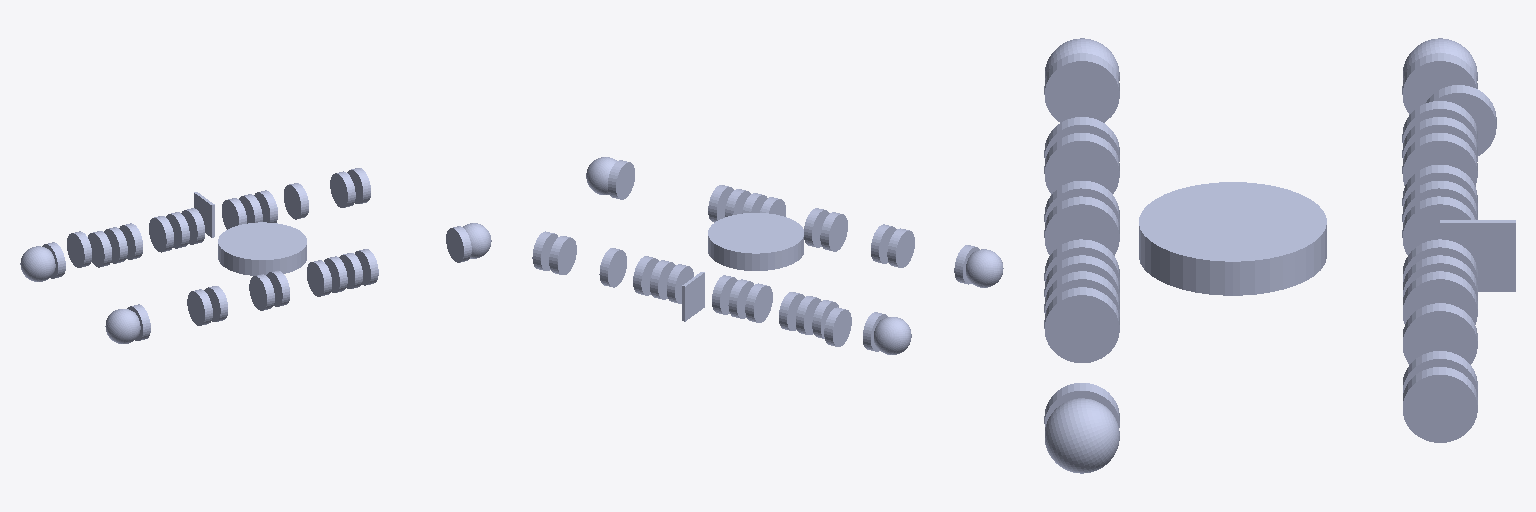
--- Facts derived from the render (not from the file) ---
3 views of the same robot in one strip: view 1: azimuth 30°, elevation 25°; view 2: azimuth 150°, elevation 25°; view 3: azimuth 270°, elevation 25° (orthographic).
Model try66 with 52 links and 51 joints (46 revolute, 5 fixed), rooted at base_link, posed joints at zero except 1 at the middle of their limits (joint01 = -1.57).
Links seen in each view (by area): view 1: sec05, sec50, sec20, sec30, sec26, sec22, sec38, sec11, sec48, sec35, sec43, sec47 (+12 smaller); view 2: sec05, sec30, sec20, sec50, base02, sec26, sec38, sec43, sec22, sec48, sec35, sec31 (+11 smaller); view 3: sec05, sec20, sec30, sec14, sec39, base02, sec50, sec25, sec35, sec21, sec45, sec33 (+14 smaller).
Link boxes in pixels (left/top/right/bottom): sec05: left=218, top=222, right=306, bottom=275; sec50: left=20, top=242, right=65, bottom=281; sec20: left=446, top=223, right=491, bottom=262; sec30: left=105, top=304, right=150, bottom=343; sec26: left=187, top=289, right=212, bottom=325; sec22: left=249, top=274, right=274, bottom=310; sec38: left=330, top=171, right=355, bottom=207; sec11: left=307, top=260, right=331, bottom=296; sec48: left=67, top=231, right=91, bottom=267; sec35: left=284, top=183, right=308, bottom=219; sec43: left=149, top=216, right=173, bottom=252; sec47: left=88, top=231, right=111, bottom=267; sec05: left=708, top=213, right=803, bottom=270; sec30: left=954, top=245, right=1003, bottom=287; sec20: left=586, top=157, right=634, bottom=199; sec50: left=863, top=312, right=911, bottom=354; base02: left=682, top=272, right=704, bottom=321; sec26: left=887, top=228, right=914, bottom=267; sec38: left=549, top=236, right=576, bottom=274; sec43: left=745, top=283, right=772, bottom=322; sec22: left=820, top=212, right=847, bottom=251; sec48: left=824, top=307, right=851, bottom=346; sec35: left=599, top=248, right=626, bottom=287; sec31: left=667, top=264, right=693, bottom=303; sec05: left=1139, top=182, right=1326, bottom=295; sec20: left=1044, top=383, right=1119, bottom=473; sec30: left=1044, top=38, right=1119, bottom=122; sec14: left=1044, top=287, right=1119, bottom=362; sec39: left=1403, top=367, right=1477, bottom=442; base02: left=1440, top=220, right=1515, bottom=291; sec50: left=1402, top=38, right=1477, bottom=114; sec25: left=1044, top=133, right=1119, bottom=194; sec35: left=1403, top=303, right=1477, bottom=364; sec21: left=1044, top=196, right=1119, bottom=255; sec45: left=1402, top=133, right=1477, bottom=186; sec33: left=1403, top=271, right=1477, bottom=324.
Bounding box of the posed robot: 0.246 × 0.125 × 0.02 m (x, y, z).
Meshes: 52 distinct files referenced, 26 mesh visuals loaded (26 binary STL); not drawn: 26 (reference not matched to a file when rendering).

The robot description file, URDF, robot "try66":
<?xml version="1.0" encoding="utf-8"?>
<!-- This URDF was automatically created by SolidWorks to URDF Exporter! Originally created by Stephen Brawner ([email redacted]) 
     Commit Version: 1.6.0-4-g7f85cfe  Build Version: 1.6.7995.38578
     For more information, please see http://wiki.ros.org/sw_urdf_exporter -->
<robot
  name="try66">
  <link
    name="base_link">
    <inertial>
      <origin
        xyz="1.46367293285543E-18 -0.005 0"
        rpy="0 0 0" />
      <mass
        value="0.0002" />
      <inertia
        ixx="3.33333333333333E-09"
        ixy="8.55931204830403E-27"
        ixz="-2.57922414764921E-26"
        iyy="1.73333333333333E-09"
        iyz="1.44560289664734E-25"
        izz="1.73333333333333E-09" />
    </inertial>
    <visual>
      <origin
        xyz="0 0 0"
        rpy="0 0 0" />
      <geometry>
        <mesh
          filename="package://try66/meshes/base_link.STL" />
      </geometry>
      <material
        name="">
        <color
          rgba="0.792156862745098 0.819607843137255 0.933333333333333 1" />
      </material>
    </visual>
    <collision>
      <origin
        xyz="0 0 0"
        rpy="0 0 0" />
      <geometry>
        <mesh
          filename="package://try66/meshes/base_link.STL" />
      </geometry>
    </collision>
  </link>
  <link
    name="sec01">
    <inertial>
      <origin
        xyz="8.13151629364128E-19 0.0025 0"
        rpy="0 0 0" />
      <mass
        value="0.0015707963267949" />
      <inertia
        ixx="4.25424005173618E-08"
        ixy="4.73496022666977E-40"
        ixz="1.99136488891557E-56"
        iyy="7.85398163397449E-08"
        iyz="7.588784500269E-41"
        izz="4.25424005173618E-08" />
    </inertial>
    <visual>
      <origin
        xyz="0 0 0"
        rpy="0 0 0" />
      <geometry>
        <mesh
          filename="package://try66/meshes/sec01.STL" />
      </geometry>
      <material
        name="">
        <color
          rgba="0.792156862745098 0.819607843137255 0.933333333333333 1" />
      </material>
    </visual>
    <collision>
      <origin
        xyz="0 0 0"
        rpy="0 0 0" />
      <geometry>
        <mesh
          filename="package://try66/meshes/sec01.STL" />
      </geometry>
    </collision>
  </link>
  <joint
    name="joint01"
    type="revolute">
    <origin
      xyz="0 0 0"
      rpy="0 0 0" />
    <parent
      link="base_link" />
    <child
      link="sec01" />
    <axis
      xyz="0 0 0" />
    <limit
      lower="-1.571"
      upper="-1.571"
      effort="100"
      velocity="0" />
  </joint>
  <link
    name="sec02">
    <inertial>
      <origin
        xyz="4.33680868994202E-19 0.0025 0"
        rpy="0 0 0" />
      <mass
        value="0.0015707963267949" />
      <inertia
        ixx="4.25424005173618E-08"
        ixy="5.51453741702018E-25"
        ixz="-1.10290748340404E-24"
        iyy="7.85398163397448E-08"
        iyz="-1.37863435425504E-25"
        izz="4.25424005173618E-08" />
    </inertial>
    <visual>
      <origin
        xyz="0 0 0"
        rpy="0 0 0" />
      <geometry>
        <mesh
          filename="package://try66/meshes/sec02.STL" />
      </geometry>
      <material
        name="">
        <color
          rgba="0.792156862745098 0.819607843137255 0.933333333333333 1" />
      </material>
    </visual>
    <collision>
      <origin
        xyz="0 0 0"
        rpy="0 0 0" />
      <geometry>
        <mesh
          filename="package://try66/meshes/sec02.STL" />
      </geometry>
    </collision>
  </link>
  <joint
    name="joint02"
    type="revolute">
    <origin
      xyz="0 0.01 0"
      rpy="0 0 0" />
    <parent
      link="sec01" />
    <child
      link="sec02" />
    <axis
      xyz="0 0 0" />
    <limit
      lower="-1.571"
      upper="1.571"
      effort="100"
      velocity="0" />
  </joint>
  <link
    name="sec03">
    <inertial>
      <origin
        xyz="3.25260651745651E-19 0.0025 0"
        rpy="0 0 0" />
      <mass
        value="0.0015707963267949" />
      <inertia
        ixx="4.25424005173618E-08"
        ixy="-5.51453741702019E-25"
        ixz="-4.03250548619601E-24"
        iyy="7.85398163397448E-08"
        iyz="2.75726870851009E-25"
        izz="4.25424005173618E-08" />
    </inertial>
    <visual>
      <origin
        xyz="0 0 0"
        rpy="0 0 0" />
      <geometry>
        <mesh
          filename="package://try66/meshes/sec03.STL" />
      </geometry>
      <material
        name="">
        <color
          rgba="0.792156862745098 0.819607843137255 0.933333333333333 1" />
      </material>
    </visual>
    <collision>
      <origin
        xyz="0 0 0"
        rpy="0 0 0" />
      <geometry>
        <mesh
          filename="package://try66/meshes/sec03.STL" />
      </geometry>
    </collision>
  </link>
  <joint
    name="joint03"
    type="revolute">
    <origin
      xyz="0 0.01 0"
      rpy="0 0 0" />
    <parent
      link="sec02" />
    <child
      link="sec03" />
    <axis
      xyz="0 0 0" />
    <limit
      lower="-1.571"
      upper="1.571"
      effort="100"
      velocity="0" />
  </joint>
  <link
    name="sec04">
    <inertial>
      <origin
        xyz="-2.71050543121376E-19 0.0025 0"
        rpy="0 0 0" />
      <mass
        value="0.0015707963267949" />
      <inertia
        ixx="4.25424005173618E-08"
        ixy="5.5145374170202E-25"
        ixz="-5.51453741702019E-24"
        iyy="7.85398163397449E-08"
        iyz="-1.15493625579607E-39"
        izz="4.25424005173618E-08" />
    </inertial>
    <visual>
      <origin
        xyz="0 0 0"
        rpy="0 0 0" />
      <geometry>
        <mesh
          filename="package://try66/meshes/sec04.STL" />
      </geometry>
      <material
        name="">
        <color
          rgba="0.792156862745098 0.819607843137255 0.933333333333333 1" />
      </material>
    </visual>
    <collision>
      <origin
        xyz="0 0 0"
        rpy="0 0 0" />
      <geometry>
        <mesh
          filename="package://try66/meshes/sec04.STL" />
      </geometry>
    </collision>
  </link>
  <joint
    name="joint04"
    type="revolute">
    <origin
      xyz="0 0.01 0"
      rpy="0 0 0" />
    <parent
      link="sec03" />
    <child
      link="sec04" />
    <axis
      xyz="0 0 0" />
    <limit
      lower="-1.571"
      upper="1.571"
      effort="100"
      velocity="0" />
  </joint>
  <link
    name="sec05">
    <inertial>
      <origin
        xyz="-1.62630325872826E-19 0.0025 0"
        rpy="0 0 0" />
      <mass
        value="0.0015707963267949" />
      <inertia
        ixx="4.25424005173618E-08"
        ixy="-2.75726870851008E-25"
        ixz="-1.93008809595706E-24"
        iyy="7.85398163397448E-08"
        iyz="-4.72187784282399E-41"
        izz="4.25424005173618E-08" />
    </inertial>
    <visual>
      <origin
        xyz="0 0 0"
        rpy="0 0 0" />
      <geometry>
        <mesh
          filename="package://try66/meshes/sec05.STL" />
      </geometry>
      <material
        name="">
        <color
          rgba="0.792156862745098 0.819607843137255 0.933333333333333 1" />
      </material>
    </visual>
    <collision>
      <origin
        xyz="0 0 0"
        rpy="0 0 0" />
      <geometry>
        <mesh
          filename="package://try66/meshes/sec05.STL" />
      </geometry>
    </collision>
  </link>
  <joint
    name="joint05"
    type="revolute">
    <origin
      xyz="0 0.01 0"
      rpy="0 0 0" />
    <parent
      link="sec04" />
    <child
      link="sec05" />
    <axis
      xyz="0 0 0" />
    <limit
      lower="-1.571"
      upper="1.571"
      effort="100"
      velocity="0" />
  </joint>
  <link
    name="sec06">
    <inertial>
      <origin
        xyz="-1.95156391047391E-18 0.00250000000000001 -1.73472347597681E-18"
        rpy="0 0 0" />
      <mass
        value="0.0015707963267949" />
      <inertia
        ixx="4.25424005173618E-08"
        ixy="1.37863435425504E-25"
        ixz="-6.37618388842958E-25"
        iyy="7.85398163397448E-08"
        iyz="3.37934548137149E-39"
        izz="4.25424005173618E-08" />
    </inertial>
    <visual>
      <origin
        xyz="0 0 0"
        rpy="0 0 0" />
      <geometry>
        <mesh
          filename="package://try66/meshes/sec06.STL" />
      </geometry>
      <material
        name="">
        <color
          rgba="0.792156862745098 0.819607843137255 0.933333333333333 1" />
      </material>
    </visual>
    <collision>
      <origin
        xyz="0 0 0"
        rpy="0 0 0" />
      <geometry>
        <mesh
          filename="package://try66/meshes/sec06.STL" />
      </geometry>
    </collision>
  </link>
  <joint
    name="joint06"
    type="revolute">
    <origin
      xyz="0 0.01 0"
      rpy="0 0 0" />
    <parent
      link="sec05" />
    <child
      link="sec06" />
    <axis
      xyz="0 0 0" />
    <limit
      lower="-1.571"
      upper="1.571"
      effort="100"
      velocity="0" />
  </joint>
  <link
    name="sec07">
    <inertial>
      <origin
        xyz="-1.84314369322536E-18 0.0025 -1.73472347597681E-18"
        rpy="0 0 0" />
      <mass
        value="0.0015707963267949" />
      <inertia
        ixx="4.25424005173618E-08"
        ixy="-1.88326956163455E-39"
        ixz="2.35098870164457E-38"
        iyy="7.85398163397448E-08"
        iyz="1.88906772285313E-39"
        izz="4.25424005173618E-08" />
    </inertial>
    <visual>
      <origin
        xyz="0 0 0"
        rpy="0 0 0" />
      <geometry>
        <mesh
          filename="package://try66/meshes/sec07.STL" />
      </geometry>
      <material
        name="">
        <color
          rgba="0.792156862745098 0.819607843137255 0.933333333333333 1" />
      </material>
    </visual>
    <collision>
      <origin
        xyz="0 0 0"
        rpy="0 0 0" />
      <geometry>
        <mesh
          filename="package://try66/meshes/sec07.STL" />
      </geometry>
    </collision>
  </link>
  <joint
    name="joint07"
    type="revolute">
    <origin
      xyz="0 0.01 0"
      rpy="0 0 0" />
    <parent
      link="sec06" />
    <child
      link="sec07" />
    <axis
      xyz="0 0 0" />
    <limit
      lower="-1.571"
      upper="1.571"
      effort="100"
      velocity="0" />
  </joint>
  <link
    name="sec08">
    <inertial>
      <origin
        xyz="-1.62630325872826E-18 0.0025 0"
        rpy="0 0 0" />
      <mass
        value="0.0015707963267949" />
      <inertia
        ixx="4.25424005173618E-08"
        ixy="-2.75726870851008E-25"
        ixz="-9.91055745063801E-41"
        iyy="7.85398163397448E-08"
        iyz="1.65082098396703E-40"
        izz="4.25424005173618E-08" />
    </inertial>
    <visual>
      <origin
        xyz="0 0 0"
        rpy="0 0 0" />
      <geometry>
        <mesh
          filename="package://try66/meshes/sec08.STL" />
      </geometry>
      <material
        name="">
        <color
          rgba="0.792156862745098 0.819607843137255 0.933333333333333 1" />
      </material>
    </visual>
    <collision>
      <origin
        xyz="0 0 0"
        rpy="0 0 0" />
      <geometry>
        <mesh
          filename="package://try66/meshes/sec08.STL" />
      </geometry>
    </collision>
  </link>
  <joint
    name="joint08"
    type="revolute">
    <origin
      xyz="0 0.01 0"
      rpy="0 0 0" />
    <parent
      link="sec07" />
    <child
      link="sec08" />
    <axis
      xyz="0 0 0" />
    <limit
      lower="-1.571"
      upper="1.571"
      effort="100"
      velocity="0" />
  </joint>
  <link
    name="sec09">
    <inertial>
      <origin
        xyz="-1.68051336735253E-18 0.0025 0"
        rpy="0 0 0" />
      <mass
        value="0.0015707963267949" />
      <inertia
        ixx="4.25424005173618E-08"
        ixy="5.74790090871454E-41"
        ixz="4.41162993361615E-24"
        iyy="7.85398163397449E-08"
        iyz="-3.31855213692167E-41"
        izz="4.25424005173619E-08" />
    </inertial>
    <visual>
      <origin
        xyz="0 0 0"
        rpy="0 0 0" />
      <geometry>
        <mesh
          filename="package://try66/meshes/sec09.STL" />
      </geometry>
      <material
        name="">
        <color
          rgba="0.792156862745098 0.819607843137255 0.933333333333333 1" />
      </material>
    </visual>
    <collision>
      <origin
        xyz="0 0 0"
        rpy="0 0 0" />
      <geometry>
        <mesh
          filename="package://try66/meshes/sec09.STL" />
      </geometry>
    </collision>
  </link>
  <joint
    name="joint09"
    type="revolute">
    <origin
      xyz="0 0.01 0"
      rpy="0 0 0" />
    <parent
      link="sec08" />
    <child
      link="sec09" />
    <axis
      xyz="0 0 0" />
    <limit
      lower="-1.571"
      upper="1.571"
      effort="100"
      velocity="0" />
  </joint>
  <link
    name="sec10">
    <inertial>
      <origin
        xyz="-3.36102673470506E-18 0.00250000000000002 0"
        rpy="0 0 0" />
      <mass
        value="0.0015707963267949" />
      <inertia
        ixx="4.25424005173618E-08"
        ixy="1.10290748340404E-24"
        ixz="6.89317177127524E-24"
        iyy="7.85398163397449E-08"
        iyz="5.51453741702019E-25"
        izz="4.25424005173618E-08" />
    </inertial>
    <visual>
      <origin
        xyz="0 0 0"
        rpy="0 0 0" />
      <geometry>
        <mesh
          filename="package://try66/meshes/sec10.STL" />
      </geometry>
      <material
        name="">
        <color
          rgba="0.792156862745098 0.819607843137255 0.933333333333333 1" />
      </material>
    </visual>
    <collision>
      <origin
        xyz="0 0 0"
        rpy="0 0 0" />
      <geometry>
        <mesh
          filename="package://try66/meshes/sec10.STL" />
      </geometry>
    </collision>
  </link>
  <joint
    name="joint10"
    type="revolute">
    <origin
      xyz="0 0.01 0"
      rpy="0 0 0" />
    <parent
      link="sec09" />
    <child
      link="sec10" />
    <axis
      xyz="0 0 0" />
    <limit
      lower="-1.571"
      upper="1.571"
      effort="100"
      velocity="0" />
  </joint>
  <link
    name="base02">
    <inertial>
      <origin
        xyz="-1.30104260698261E-18 0.01 0"
        rpy="0 0 0" />
      <mass
        value="0.0002" />
      <inertia
        ixx="3.33333333333334E-09"
        ixy="-2.84788983421455E-26"
        ixz="-8.84139974836551E-26"
        iyy="1.73333333333334E-09"
        iyz="5.50456501578786E-26"
        izz="1.73333333333334E-09" />
    </inertial>
    <visual>
      <origin
        xyz="0 0 0"
        rpy="0 0 0" />
      <geometry>
        <mesh
          filename="package://try66/meshes/base02.STL" />
      </geometry>
      <material
        name="">
        <color
          rgba="0.792156862745098 0.819607843137255 0.933333333333333 1" />
      </material>
    </visual>
    <collision>
      <origin
        xyz="0 0 0"
        rpy="0 0 0" />
      <geometry>
        <mesh
          filename="package://try66/meshes/base02.STL" />
      </geometry>
    </collision>
  </link>
  <joint
    name="basejoint02"
    type="fixed">
    <origin
      xyz="0 0 0"
      rpy="0 0 0" />
    <parent
      link="sec10" />
    <child
      link="base02" />
    <axis
      xyz="0 0 0" />
  </joint>
  <link
    name="sec31">
    <inertial>
      <origin
        xyz="0.00249999999999999 -0.00499999999999999 0"
        rpy="0 0 0" />
      <mass
        value="0.0015707963267949" />
      <inertia
        ixx="7.85398163397449E-08"
        ixy="-1.61515983115699E-24"
        ixz="1.35423264498193E-23"
        iyy="4.25424005173618E-08"
        iyz="-4.41162993361615E-24"
        izz="4.25424005173618E-08" />
    </inertial>
    <visual>
      <origin
        xyz="0 0 0"
        rpy="0 0 0" />
      <geometry>
        <mesh
          filename="package://try66/meshes/sec31.STL" />
      </geometry>
      <material
        name="">
        <color
          rgba="0.792156862745098 0.819607843137255 0.933333333333333 1" />
      </material>
    </visual>
    <collision>
      <origin
        xyz="0 0 0"
        rpy="0 0 0" />
      <geometry>
        <mesh
          filename="package://try66/meshes/sec31.STL" />
      </geometry>
    </collision>
  </link>
  <joint
    name="joint31"
    type="fixed">
    <origin
      xyz="0.011 0.01 0"
      rpy="0 0 0" />
    <parent
      link="base02" />
    <child
      link="sec31" />
    <axis
      xyz="0 0 0" />
    <limit
      lower="-1.571"
      upper="1.571"
      effort="100"
      velocity="0" />
  </joint>
  <link
    name="sec32">
    <inertial>
      <origin
        xyz="0.00249999999999999 -0.00499999999999998 0"
        rpy="0 0 0" />
      <mass
        value="0.0015707963267949" />
      <inertia
        ixx="7.85398163397449E-08"
        ixy="-1.61515983115699E-24"
        ixz="1.35423264498193E-23"
        iyy="4.25424005173618E-08"
        iyz="-5.70409964073026E-24"
        izz="4.25424005173618E-08" />
    </inertial>
    <visual>
      <origin
        xyz="0 0 0"
        rpy="0 0 0" />
      <geometry>
        <mesh
          filename="package://try66/meshes/sec32.STL" />
      </geometry>
      <material
        name="">
        <color
          rgba="0.792156862745098 0.819607843137255 0.933333333333333 1" />
      </material>
    </visual>
    <collision>
      <origin
        xyz="0 0 0"
        rpy="0 0 0" />
      <geometry>
        <mesh
          filename="package://try66/meshes/sec32.STL" />
      </geometry>
    </collision>
  </link>
  <joint
    name="joint32"
    type="revolute">
    <origin
      xyz="0.01 0 0"
      rpy="0 0 0" />
    <parent
      link="sec31" />
    <child
      link="sec32" />
    <axis
      xyz="0 0 0" />
    <limit
      lower="-1.571"
      upper="1.571"
      effort="100"
      velocity="0" />
  </joint>
  <link
    name="sec33">
    <inertial>
      <origin
        xyz="0.00249999999999999 -0.00499999999999999 -6.93889390390723E-18"
        rpy="0 0 0" />
      <mass
        value="0.0015707963267949" />
      <inertia
        ixx="7.85398163397448E-08"
        ixy="-1.06370608945497E-24"
        ixz="1.38180533206703E-23"
        iyy="4.25424005173618E-08"
        iyz="-5.70409964073025E-24"
        izz="4.25424005173618E-08" />
    </inertial>
    <visual>
      <origin
        xyz="0 0 0"
        rpy="0 0 0" />
      <geometry>
        <mesh
          filename="package://try66/meshes/sec33.STL" />
      </geometry>
      <material
        name="">
        <color
          rgba="0.792156862745098 0.819607843137255 0.933333333333333 1" />
      </material>
    </visual>
    <collision>
      <origin
        xyz="0 0 0"
        rpy="0 0 0" />
      <geometry>
        <mesh
          filename="package://try66/meshes/sec33.STL" />
      </geometry>
    </collision>
  </link>
  <joint
    name="joint33"
    type="revolute">
    <origin
      xyz="0.01 0 0"
      rpy="0 0 0" />
    <parent
      link="sec32" />
    <child
      link="sec33" />
    <axis
      xyz="0 0 0" />
    <limit
      lower="-1.571"
      upper="1.571"
      effort="100"
      velocity="0" />
  </joint>
  <link
    name="sec34">
    <inertial>
      <origin
        xyz="0.00249999999999997 -0.00499999999999999 -6.93889390390723E-18"
        rpy="0 0 0" />
      <mass
        value="0.0015707963267949" />
      <inertia
        ixx="7.85398163397448E-08"
        ixy="-1.06370608945497E-24"
        ixz="1.38180533206703E-23"
        iyy="4.25424005173618E-08"
        iyz="-5.70409964073025E-24"
        izz="4.25424005173618E-08" />
    </inertial>
    <visual>
      <origin
        xyz="0 0 0"
        rpy="0 0 0" />
      <geometry>
        <mesh
          filename="package://try66/meshes/sec34.STL" />
      </geometry>
      <material
        name="">
        <color
          rgba="0.792156862745098 0.819607843137255 0.933333333333333 1" />
      </material>
    </visual>
    <collision>
      <origin
        xyz="0 0 0"
        rpy="0 0 0" />
      <geometry>
        <mesh
          filename="package://try66/meshes/sec34.STL" />
      </geometry>
    </collision>
  </link>
  <joint
    name="joint34"
    type="revolute">
    <origin
      xyz="0.01 0 0"
      rpy="0 0 0" />
    <parent
      link="sec33" />
    <child
      link="sec34" />
    <axis
      xyz="0 0 0" />
    <limit
      lower="-1.571"
      upper="1.571"
      effort="100"
      velocity="0" />
  </joint>
  <link
    name="sec35">
    <inertial>
      <origin
        xyz="0.0025 -0.00499999999999999 -6.93889390390723E-18"
        rpy="0 0 0" />
      <mass
        value="0.0015707963267949" />
      <inertia
        ixx="7.85398163397448E-08"
        ixy="-1.06370608945497E-24"
        ixz="1.38180533206703E-23"
        iyy="4.25424005173618E-08"
        iyz="-5.70409964073025E-24"
        izz="4.25424005173618E-08" />
    </inertial>
    <visual>
      <origin
        xyz="0 0 0"
        rpy="0 0 0" />
      <geometry>
        <mesh
          filename="package://try66/meshes/sec35.STL" />
      </geometry>
      <material
        name="">
        <color
          rgba="0.792156862745098 0.819607843137255 0.933333333333333 1" />
      </material>
    </visual>
    <collision>
      <origin
        xyz="0 0 0"
        rpy="0 0 0" />
      <geometry>
        <mesh
          filename="package://try66/meshes/sec35.STL" />
      </geometry>
    </collision>
  </link>
  <joint
    name="joint35"
    type="revolute">
    <origin
      xyz="0.01 0 0"
      rpy="0 0 0" />
    <parent
      link="sec34" />
    <child
      link="sec35" />
    <axis
      xyz="0 0 0" />
    <limit
      lower="-1.571"
      upper="1.571"
      effort="100"
      velocity="0" />
  </joint>
  <link
    name="sec36">
    <inertial>
      <origin
        xyz="0.00249999999999999 -0.00499999999999999 -5.20417042793042E-18"
        rpy="0 0 0" />
      <mass
        value="0.0015707963267949" />
      <inertia
        ixx="7.85398163397449E-08"
        ixy="-1.61515983115699E-24"
        ixz="1.38180533206703E-23"
        iyy="4.25424005173619E-08"
        iyz="-5.70409964073026E-24"
        izz="4.25424005173619E-08" />
    </inertial>
    <visual>
      <origin
        xyz="0 0 0"
        rpy="0 0 0" />
      <geometry>
        <mesh
          filename="package://try66/meshes/sec36.STL" />
      </geometry>
      <material
        name="">
        <color
          rgba="0.792156862745098 0.819607843137255 0.933333333333333 1" />
      </material>
    </visual>
    <collision>
      <origin
        xyz="0 0 0"
        rpy="0 0 0" />
      <geometry>
        <mesh
          filename="package://try66/meshes/sec36.STL" />
      </geometry>
    </collision>
  </link>
  <joint
    name="joint36"
    type="revolute">
    <origin
      xyz="0.01 0 0"
      rpy="0 0 0" />
    <parent
      link="sec35" />
    <child
      link="sec36" />
    <axis
      xyz="0 0 0" />
    <limit
      lower="-1.571"
      upper="1.571"
      effort="100"
      velocity="0" />
  </joint>
  <link
    name="sec37">
    <inertial>
      <origin
        xyz="0.00249999999999999 -0.00499999999999999 -6.93889390390723E-18"
        rpy="0 0 0" />
      <mass
        value="0.0015707963267949" />
      <inertia
        ixx="7.85398163397449E-08"
        ixy="-1.61515983115699E-24"
        ixz="1.38180533206703E-23"
        iyy="4.25424005173619E-08"
        iyz="-5.70409964073026E-24"
        izz="4.25424005173619E-08" />
    </inertial>
    <visual>
      <origin
        xyz="0 0 0"
        rpy="0 0 0" />
      <geometry>
        <mesh
          filename="package://try66/meshes/sec37.STL" />
      </geometry>
      <material
        name="">
        <color
          rgba="0.792156862745098 0.819607843137255 0.933333333333333 1" />
      </material>
    </visual>
    <collision>
      <origin
        xyz="0 0 0"
        rpy="0 0 0" />
      <geometry>
        <mesh
          filename="package://try66/meshes/sec37.STL" />
      </geometry>
    </collision>
  </link>
  <joint
    name="joint37"
    type="revolute">
    <origin
      xyz="0.01 0 0"
      rpy="0 0 0" />
    <parent
      link="sec36" />
    <child
      link="sec37" />
    <axis
      xyz="0 0 0" />
    <limit
      lower="-1.571"
      upper="1.571"
      effort="100"
      velocity="0" />
  </joint>
  <link
    name="sec38">
    <inertial>
      <origin
        xyz="0.00249999999999999 -0.00499999999999999 -5.20417042793042E-18"
        rpy="0 0 0" />
      <mass
        value="0.0015707963267949" />
      <inertia
        ixx="7.85398163397449E-08"
        ixy="-1.61515983115699E-24"
        ixz="1.40937801915213E-23"
        iyy="4.25424005173619E-08"
        iyz="-5.70409964073026E-24"
        izz="4.25424005173618E-08" />
    </inertial>
    <visual>
      <origin
        xyz="0 0 0"
        rpy="0 0 0" />
      <geometry>
        <mesh
          filename="package://try66/meshes/sec38.STL" />
      </geometry>
      <material
        name="">
        <color
          rgba="0.792156862745098 0.819607843137255 0.933333333333333 1" />
      </material>
    </visual>
    <collision>
      <origin
        xyz="0 0 0"
        rpy="0 0 0" />
      <geometry>
        <mesh
          filename="package://try66/meshes/sec38.STL" />
      </geometry>
    </collision>
  </link>
  <joint
    name="joint38"
    type="revolute">
    <origin
      xyz="0.01 0 0"
      rpy="0 0 0" />
    <parent
      link="sec37" />
    <child
      link="sec38" />
    <axis
      xyz="0 0 0" />
    <limit
      lower="-1.571"
      upper="1.571"
      effort="100"
      velocity="0" />
  </joint>
  <link
    name="sec39">
    <inertial>
      <origin
        xyz="0.00249999999999999 -0.00499999999999999 -5.20417042793042E-18"
        rpy="0 0 0" />
      <mass
        value="0.0015707963267949" />
      <inertia
        ixx="7.85398163397449E-08"
        ixy="-1.61515983115699E-24"
        ixz="1.38180533206703E-23"
        iyy="4.25424005173619E-08"
        iyz="-5.70409964073025E-24"
        izz="4.25424005173618E-08" />
    </inertial>
    <visual>
      <origin
        xyz="0 0 0"
        rpy="0 0 0" />
      <geometry>
        <mesh
          filename="package://try66/meshes/sec39.STL" />
      </geometry>
      <material
        name="">
        <color
          rgba="0.792156862745098 0.819607843137255 0.933333333333333 1" />
      </material>
    </visual>
    <collision>
      <origin
        xyz="0 0 0"
        rpy="0 0 0" />
      <geometry>
        <mesh
          filename="package://try66/meshes/sec39.STL" />
      </geometry>
    </collision>
  </link>
  <joint
    name="joint39"
    type="revolute">
    <origin
      xyz="0.01 0 0"
      rpy="0 0 0" />
    <parent
      link="sec38" />
    <child
      link="sec39" />
    <axis
      xyz="0 0 0" />
    <limit
      lower="-1.571"
      upper="1.571"
      effort="100"
      velocity="0" />
  </joint>
  <link
    name="sec40">
    <inertial>
      <origin
        xyz="0.00966050944787065 -0.00499999999999999 -5.20417042793042E-18"
        rpy="0 0 0" />
      <mass
        value="0.00550494687629906" />
      <inertia
        ixx="2.41628680833485E-07"
        ixy="2.49284900016054E-23"
        ixz="7.82490633606049E-24"
        iyy="1.90268774172367E-07"
        iyz="2.82880458408847E-12"
        izz="1.90263096098426E-07" />
    </inertial>
    <visual>
      <origin
        xyz="0 0 0"
        rpy="0 0 0" />
      <geometry>
        <mesh
          filename="package://try66/meshes/sec40.STL" />
      </geometry>
      <material
        name="">
        <color
          rgba="0.792156862745098 0.819607843137255 0.933333333333333 1" />
      </material>
    </visual>
    <collision>
      <origin
        xyz="0 0 0"
        rpy="0 0 0" />
      <geometry>
        <mesh
          filename="package://try66/meshes/sec40.STL" />
      </geometry>
    </collision>
  </link>
  <joint
    name="joint40"
    type="revolute">
    <origin
      xyz="0.01 0 0"
      rpy="0 0 0" />
    <parent
      link="sec39" />
    <child
      link="sec40" />
    <axis
      xyz="0 0 1" />
    <limit
      lower="-1.571"
      upper="1.571"
      effort="100"
      velocity="0" />
  </joint>
  <link
    name="sec41">
    <inertial>
      <origin
        xyz="-0.00250000000000001 -0.00499999999999999 1.73472347597681E-18"
        rpy="0 0 0" />
      <mass
        value="0.0015707963267949" />
      <inertia
        ixx="7.85398163397448E-08"
        ixy="3.9735752641855E-26"
        ixz="-4.46898557236922E-24"
        iyy="4.25424005173618E-08"
        iyz="-4.23930063933427E-24"
        izz="4.25424005173618E-08" />
    </inertial>
    <visual>
      <origin
        xyz="0 0 0"
        rpy="0 0 0" />
      <geometry>
        <mesh
          filename="package://try66/meshes/sec41.STL" />
      </geometry>
      <material
        name="">
        <color
          rgba="0.792156862745098 0.819607843137255 0.933333333333333 1" />
      </material>
    </visual>
    <collision>
      <origin
        xyz="0 0 0"
        rpy="0 0 0" />
      <geometry>
        <mesh
          filename="package://try66/meshes/sec41.STL" />
      </geometry>
    </collision>
  </link>
  <joint
    name="joint41"
    type="fixed">
    <origin
      xyz="-0.011 0.01 0"
      rpy="0 0 0" />
    <parent
      link="base02" />
    <child
      link="sec41" />
    <axis
      xyz="0 0 0" />
    <limit
      lower="-1.571"
      upper="1.571"
      effort="100"
      velocity="0" />
  </joint>
  <link
    name="sec42">
    <inertial>
      <origin
        xyz="-0.00250000000000001 -0.00499999999999998 3.46944695195361E-18"
        rpy="0 0 0" />
      <mass
        value="0.0015707963267949" />
      <inertia
        ixx="7.85398163397449E-08"
        ixy="8.66916365194882E-25"
        ixz="-5.02043931407124E-24"
        iyy="4.25424005173618E-08"
        iyz="-1.20630505997316E-24"
        izz="4.25424005173618E-08" />
    </inertial>
    <visual>
      <origin
        xyz="0 0 0"
        rpy="0 0 0" />
      <geometry>
        <mesh
          filename="package://try66/meshes/sec42.STL" />
      </geometry>
      <material
        name="">
        <color
          rgba="0.792156862745098 0.819607843137255 0.933333333333333 1" />
      </material>
    </visual>
    <collision>
      <origin
        xyz="0 0 0"
        rpy="0 0 0" />
      <geometry>
        <mesh
          filename="package://try66/meshes/sec42.STL" />
      </geometry>
    </collision>
  </link>
  <joint
    name="joint42"
    type="revolute">
    <origin
      xyz="-0.01 0 0"
      rpy="0 0 0" />
    <parent
      link="sec41" />
    <child
      link="sec42" />
    <axis
      xyz="0 0 0" />
    <limit
      lower="-1.571"
      upper="1.571"
      effort="100"
      velocity="0" />
  </joint>
  <link
    name="sec43">
    <inertial>
      <origin
        xyz="-0.00250000000000001 -0.00499999999999998 3.46944695195361E-18"
        rpy="0 0 0" />
      <mass
        value="0.00157079632679489" />
      <inertia
        ixx="7.85398163397448E-08"
        ixy="3.15462623492863E-25"
        ixz="-4.46898557236922E-24"
        iyy="4.25424005173618E-08"
        iyz="1.82669051938793E-24"
        izz="4.25424005173617E-08" />
    </inertial>
    <visual>
      <origin
        xyz="0 0 0"
        rpy="0 0 0" />
      <geometry>
        <mesh
          filename="package://try66/meshes/sec43.STL" />
      </geometry>
      <material
        name="">
        <color
          rgba="0.792156862745098 0.819607843137255 0.933333333333333 1" />
      </material>
    </visual>
    <collision>
      <origin
        xyz="0 0 0"
        rpy="0 0 0" />
      <geometry>
        <mesh
          filename="package://try66/meshes/sec43.STL" />
      </geometry>
    </collision>
  </link>
  <joint
    name="joint43"
    type="revolute">
    <origin
      xyz="-0.01 0 0"
      rpy="0 0 0" />
    <parent
      link="sec42" />
    <child
      link="sec43" />
    <axis
      xyz="0 0 0" />
    <limit
      lower="-1.571"
      upper="1.571"
      effort="100"
      velocity="0" />
  </joint>
  <link
    name="sec44">
    <inertial>
      <origin
        xyz="-0.0025 -0.00499999999999998 3.46944695195361E-18"
        rpy="0 0 0" />
      <mass
        value="0.0015707963267949" />
      <inertia
        ixx="7.85398163397448E-08"
        ixy="3.97357526418568E-26"
        ixz="-3.9175318306672E-24"
        iyy="4.25424005173618E-08"
        iyz="-4.23930063933427E-24"
        izz="4.25424005173618E-08" />
    </inertial>
    <visual>
      <origin
        xyz="0 0 0"
        rpy="0 0 0" />
      <geometry>
        <mesh
          filename="package://try66/meshes/sec44.STL" />
      </geometry>
      <material
        name="">
        <color
          rgba="0.792156862745098 0.819607843137255 0.933333333333333 1" />
      </material>
    </visual>
    <collision>
      <origin
        xyz="0 0 0"
        rpy="0 0 0" />
      <geometry>
        <mesh
          filename="package://try66/meshes/sec44.STL" />
      </geometry>
    </collision>
  </link>
  <joint
    name="joint44"
    type="revolute">
    <origin
      xyz="-0.01 0 0"
      rpy="0 0 0" />
    <parent
      link="sec43" />
    <child
      link="sec44" />
    <axis
      xyz="0 0 0" />
    <limit
      lower="-1.571"
      upper="1.571"
      effort="100"
      velocity="0" />
  </joint>
  <link
    name="sec45">
    <inertial>
      <origin
        xyz="-0.0025 -0.00499999999999998 3.46944695195361E-18"
        rpy="0 0 0" />
      <mass
        value="0.0015707963267949" />
      <inertia
        ixx="7.85398163397448E-08"
        ixy="5.91189494343873E-25"
        ixz="-5.02043931407124E-24"
        iyy="4.25424005173618E-08"
        iyz="-1.20630505997316E-24"
        izz="4.25424005173618E-08" />
    </inertial>
    <visual>
      <origin
        xyz="0 0 0"
        rpy="0 0 0" />
      <geometry>
        <mesh
          filename="package://try66/meshes/sec45.STL" />
      </geometry>
      <material
        name="">
        <color
          rgba="0.792156862745098 0.819607843137255 0.933333333333333 1" />
      </material>
    </visual>
    <collision>
      <origin
        xyz="0 0 0"
        rpy="0 0 0" />
      <geometry>
        <mesh
          filename="package://try66/meshes/sec45.STL" />
      </geometry>
    </collision>
  </link>
  <joint
    name="joint45"
    type="revolute">
    <origin
      xyz="-0.01 0 0"
      rpy="0 0 0" />
    <parent
      link="sec44" />
    <child
      link="sec45" />
    <axis
      xyz="0 0 0" />
    <limit
      lower="-1.571"
      upper="1.571"
      effort="100"
      velocity="0" />
  </joint>
  <link
    name="sec46">
    <inertial>
      <origin
        xyz="-0.0025 -0.00499999999999999 1.73472347597681E-18"
        rpy="0 0 0" />
      <mass
        value="0.0015707963267949" />
      <inertia
        ixx="7.85398163397448E-08"
        ixy="3.15462623492865E-25"
        ixz="-4.46898557236922E-24"
        iyy="4.25424005173618E-08"
        iyz="-1.20630505997317E-24"
        izz="4.25424005173618E-08" />
    </inertial>
    <visual>
      <origin
        xyz="0 0 0"
        rpy="0 0 0" />
      <geometry>
        <mesh
          filename="package://try66/meshes/sec46.STL" />
      </geometry>
      <material
        name="">
        <color
          rgba="0.792156862745098 0.819607843137255 0.933333333333333 1" />
      </material>
    </visual>
    <collision>
      <origin
        xyz="0 0 0"
        rpy="0 0 0" />
      <geometry>
        <mesh
          filename="package://try66/meshes/sec46.STL" />
      </geometry>
    </collision>
  </link>
  <joint
    name="joint46"
    type="revolute">
    <origin
      xyz="-0.01 0 0"
      rpy="0 0 0" />
    <parent
      link="sec45" />
    <child
      link="sec46" />
    <axis
      xyz="0 0 0" />
    <limit
      lower="-1.571"
      upper="1.571"
      effort="100"
      velocity="0" />
  </joint>
  <link
    name="sec47">
    <inertial>
      <origin
        xyz="-0.00249999999999999 -0.00499999999999999 3.46944695195361E-18"
        rpy="0 0 0" />
      <mass
        value="0.0015707963267949" />
      <inertia
        ixx="7.85398163397449E-08"
        ixy="3.97357526418557E-26"
        ixz="-3.91753183066721E-24"
        iyy="4.25424005173618E-08"
        iyz="-5.53177034644838E-24"
        izz="4.25424005173618E-08" />
    </inertial>
    <visual>
      <origin
        xyz="0 0 0"
        rpy="0 0 0" />
      <geometry>
        <mesh
          filename="package://try66/meshes/sec47.STL" />
      </geometry>
      <material
        name="">
        <color
          rgba="0.792156862745098 0.819607843137255 0.933333333333333 1" />
      </material>
    </visual>
    <collision>
      <origin
        xyz="0 0 0"
        rpy="0 0 0" />
      <geometry>
        <mesh
          filename="package://try66/meshes/sec47.STL" />
      </geometry>
    </collision>
  </link>
  <joint
    name="joint47"
    type="revolute">
    <origin
      xyz="-0.01 0 0"
      rpy="0 0 0" />
    <parent
      link="sec46" />
    <child
      link="sec47" />
    <axis
      xyz="0 0 0" />
    <limit
      lower="-1.571"
      upper="1.571"
      effort="100"
      velocity="0" />
  </joint>
  <link
    name="sec48">
    <inertial>
      <origin
        xyz="-0.0025 -0.005 3.46944695195361E-18"
        rpy="0 0 0" />
      <mass
        value="0.0015707963267949" />
      <inertia
        ixx="7.85398163397449E-08"
        ixy="3.15462623492865E-25"
        ixz="-4.46898557236923E-24"
        iyy="4.25424005173618E-08"
        iyz="-2.49877476708727E-24"
        izz="4.25424005173618E-08" />
    </inertial>
    <visual>
      <origin
        xyz="0 0 0"
        rpy="0 0 0" />
      <geometry>
        <mesh
          filename="package://try66/meshes/sec48.STL" />
      </geometry>
      <material
        name="">
        <color
          rgba="0.792156862745098 0.819607843137255 0.933333333333333 1" />
      </material>
    </visual>
    <collision>
      <origin
        xyz="0 0 0"
        rpy="0 0 0" />
      <geometry>
        <mesh
          filename="package://try66/meshes/sec48.STL" />
      </geometry>
    </collision>
  </link>
  <joint
    name="joint48"
    type="revolute">
    <origin
      xyz="-0.01 0 0"
      rpy="0 0 0" />
    <parent
      link="sec47" />
    <child
      link="sec48" />
    <axis
      xyz="0 0 0" />
    <limit
      lower="-1.571"
      upper="1.571"
      effort="100"
      velocity="0" />
  </joint>
  <link
    name="sec49">
    <inertial>
      <origin
        xyz="-0.0025 -0.005 1.73472347597681E-18"
        rpy="0 0 0" />
      <mass
        value="0.0015707963267949" />
      <inertia
        ixx="7.85398163397449E-08"
        ixy="3.15462623492865E-25"
        ixz="-3.91753183066721E-24"
        iyy="4.25424005173618E-08"
        iyz="-2.49877476708727E-24"
        izz="4.25424005173618E-08" />
    </inertial>
    <visual>
      <origin
        xyz="0 0 0"
        rpy="0 0 0" />
      <geometry>
        <mesh
          filename="package://try66/meshes/sec49.STL" />
      </geometry>
      <material
        name="">
        <color
          rgba="0.792156862745098 0.819607843137255 0.933333333333333 1" />
      </material>
    </visual>
    <collision>
      <origin
        xyz="0 0 0"
        rpy="0 0 0" />
      <geometry>
        <mesh
          filename="package://try66/meshes/sec49.STL" />
      </geometry>
    </collision>
  </link>
  <joint
    name="joint49"
    type="revolute">
    <origin
      xyz="-0.01 0 0"
      rpy="0 0 0" />
    <parent
      link="sec48" />
    <child
      link="sec49" />
    <axis
      xyz="0 0 0" />
    <limit
      lower="-1.571"
      upper="1.571"
      effort="100"
      velocity="0" />
  </joint>
  <link
    name="sec50">
    <inertial>
      <origin
        xyz="-0.00966050944787065 -0.00499999999999999 -3.81639164714898E-17"
        rpy="0 0 0" />
      <mass
        value="0.00550494687629905" />
      <inertia
        ixx="2.41628680833485E-07"
        ixy="2.00079855221156E-24"
        ixz="-1.01435921209577E-23"
        iyy="1.90268774172367E-07"
        iyz="2.82880458408832E-12"
        izz="1.90263096098425E-07" />
    </inertial>
    <visual>
      <origin
        xyz="0 0 0"
        rpy="0 0 0" />
      <geometry>
        <mesh
          filename="package://try66/meshes/sec50.STL" />
      </geometry>
      <material
        name="">
        <color
          rgba="0.792156862745098 0.819607843137255 0.933333333333333 1" />
      </material>
    </visual>
    <collision>
      <origin
        xyz="0 0 0"
        rpy="0 0 0" />
      <geometry>
        <mesh
          filename="package://try66/meshes/sec50.STL" />
      </geometry>
    </collision>
  </link>
  <joint
    name="joint50"
    type="revolute">
    <origin
      xyz="-0.01 0 0"
      rpy="0 0 0" />
    <parent
      link="sec49" />
    <child
      link="sec50" />
    <axis
      xyz="0 0 0" />
    <limit
      lower="-1.571"
      upper="1.571"
      effort="100"
      velocity="0" />
  </joint>
  <link
    name="sec11">
    <inertial>
      <origin
        xyz="0.0025 0.005 1.73472347597681E-18"
        rpy="0 0 0" />
      <mass
        value="0.0015707963267949" />
      <inertia
        ixx="7.85398163397448E-08"
        ixy="-1.43222477314754E-40"
        ixz="3.84251856747602E-40"
        iyy="4.25424005173618E-08"
        iyz="4.65289094561078E-25"
        izz="4.25424005173618E-08" />
    </inertial>
    <visual>
      <origin
        xyz="0 0 0"
        rpy="0 0 0" />
      <geometry>
        <mesh
          filename="package://try66/meshes/sec11.STL" />
      </geometry>
      <material
        name="">
        <color
          rgba="0.792156862745098 0.819607843137255 0.933333333333333 1" />
      </material>
    </visual>
    <collision>
      <origin
        xyz="0 0 0"
        rpy="0 0 0" />
      <geometry>
        <mesh
          filename="package://try66/meshes/sec11.STL" />
      </geometry>
    </collision>
  </link>
  <joint
    name="joint11"
    type="fixed">
    <origin
      xyz="0.011 -0.005 0"
      rpy="0 0 0" />
    <parent
      link="base_link" />
    <child
      link="sec11" />
    <axis
      xyz="0 0 0" />
    <limit
      lower="-1.571"
      upper="1.571"
      effort="100"
      velocity="0" />
  </joint>
  <link
    name="sec12">
    <inertial>
      <origin
        xyz="0.0025 0.005 1.73472347597681E-18"
        rpy="0 0 0" />
      <mass
        value="0.0015707963267949" />
      <inertia
        ixx="7.85398163397449E-08"
        ixy="2.7572687085101E-25"
        ixz="1.10290748340404E-24"
        iyy="4.25424005173618E-08"
        iyz="-8.27180612553028E-25"
        izz="4.25424005173618E-08" />
    </inertial>
    <visual>
      <origin
        xyz="0 0 0"
        rpy="0 0 0" />
      <geometry>
        <mesh
          filename="package://try66/meshes/sec12.STL" />
      </geometry>
      <material
        name="">
        <color
          rgba="0.792156862745098 0.819607843137255 0.933333333333333 1" />
      </material>
    </visual>
    <collision>
      <origin
        xyz="0 0 0"
        rpy="0 0 0" />
      <geometry>
        <mesh
          filename="package://try66/meshes/sec12.STL" />
      </geometry>
    </collision>
  </link>
  <joint
    name="joint12"
    type="revolute">
    <origin
      xyz="0.01 0 0"
      rpy="0 0 0" />
    <parent
      link="sec11" />
    <child
      link="sec12" />
    <axis
      xyz="0 0 0" />
    <limit
      lower="-1.571"
      upper="1.571"
      effort="100"
      velocity="0" />
  </joint>
  <link
    name="sec13">
    <inertial>
      <origin
        xyz="0.0025 0.005 1.73472347597681E-18"
        rpy="0 0 0" />
      <mass
        value="0.0015707963267949" />
      <inertia
        ixx="7.85398163397448E-08"
        ixy="-2.7572687085101E-25"
        ixz="-1.10290748340404E-24"
        iyy="4.25424005173618E-08"
        iyz="-8.27180612553027E-25"
        izz="4.25424005173618E-08" />
    </inertial>
    <visual>
      <origin
        xyz="0 0 0"
        rpy="0 0 0" />
      <geometry>
        <mesh
          filename="package://try66/meshes/sec13.STL" />
      </geometry>
      <material
        name="">
        <color
          rgba="0.792156862745098 0.819607843137255 0.933333333333333 1" />
      </material>
    </visual>
    <collision>
      <origin
        xyz="0 0 0"
        rpy="0 0 0" />
      <geometry>
        <mesh
          filename="package://try66/meshes/sec13.STL" />
      </geometry>
    </collision>
  </link>
  <joint
    name="joint13"
    type="revolute">
    <origin
      xyz="0.01 0 0"
      rpy="0 0 0" />
    <parent
      link="sec12" />
    <child
      link="sec13" />
    <axis
      xyz="0 0 0" />
    <limit
      lower="-1.571"
      upper="1.571"
      effort="100"
      velocity="0" />
  </joint>
  <link
    name="sec14">
    <inertial>
      <origin
        xyz="0.0025 0.005 1.73472347597681E-18"
        rpy="0 0 0" />
      <mass
        value="0.0015707963267949" />
      <inertia
        ixx="7.85398163397448E-08"
        ixy="2.75726870851011E-25"
        ixz="1.10290748340404E-24"
        iyy="4.25424005173618E-08"
        iyz="-8.27180612553027E-25"
        izz="4.25424005173618E-08" />
    </inertial>
    <visual>
      <origin
        xyz="0 0 0"
        rpy="0 0 0" />
      <geometry>
        <mesh
          filename="package://try66/meshes/sec14.STL" />
      </geometry>
      <material
        name="">
        <color
          rgba="0.792156862745098 0.819607843137255 0.933333333333333 1" />
      </material>
    </visual>
    <collision>
      <origin
        xyz="0 0 0"
        rpy="0 0 0" />
      <geometry>
        <mesh
          filename="package://try66/meshes/sec14.STL" />
      </geometry>
    </collision>
  </link>
  <joint
    name="joint14"
    type="revolute">
    <origin
      xyz="0.01 0 0"
      rpy="0 0 0" />
    <parent
      link="sec13" />
    <child
      link="sec14" />
    <axis
      xyz="0 0 0" />
    <limit
      lower="-1.571"
      upper="1.571"
      effort="100"
      velocity="0" />
  </joint>
  <link
    name="sec15">
    <inertial>
      <origin
        xyz="0.0025 0.005 1.73472347597681E-18"
        rpy="0 0 0" />
      <mass
        value="0.0015707963267949" />
      <inertia
        ixx="7.85398163397448E-08"
        ixy="-2.7572687085101E-25"
        ixz="-1.10290748340404E-24"
        iyy="4.25424005173618E-08"
        iyz="-8.27180612553027E-25"
        izz="4.25424005173618E-08" />
    </inertial>
    <visual>
      <origin
        xyz="0 0 0"
        rpy="0 0 0" />
      <geometry>
        <mesh
          filename="package://try66/meshes/sec15.STL" />
      </geometry>
      <material
        name="">
        <color
          rgba="0.792156862745098 0.819607843137255 0.933333333333333 1" />
      </material>
    </visual>
    <collision>
      <origin
        xyz="0 0 0"
        rpy="0 0 0" />
      <geometry>
        <mesh
          filename="package://try66/meshes/sec15.STL" />
      </geometry>
    </collision>
  </link>
  <joint
    name="joint15"
    type="revolute">
    <origin
      xyz="0.01 0 0"
      rpy="0 0 0" />
    <parent
      link="sec14" />
    <child
      link="sec15" />
    <axis
      xyz="0 0 0" />
    <limit
      lower="-1.571"
      upper="1.571"
      effort="100"
      velocity="0" />
  </joint>
  <link
    name="sec16">
    <inertial>
      <origin
        xyz="0.0025 0.005 1.73472347597681E-18"
        rpy="0 0 0" />
      <mass
        value="0.0015707963267949" />
      <inertia
        ixx="7.85398163397448E-08"
        ixy="2.75726870851011E-25"
        ixz="1.10290748340404E-24"
        iyy="4.25424005173618E-08"
        iyz="-8.27180612553027E-25"
        izz="4.25424005173618E-08" />
    </inertial>
    <visual>
      <origin
        xyz="0 0 0"
        rpy="0 0 0" />
      <geometry>
        <mesh
          filename="package://try66/meshes/sec16.STL" />
      </geometry>
      <material
        name="">
        <color
          rgba="0.792156862745098 0.819607843137255 0.933333333333333 1" />
      </material>
    </visual>
    <collision>
      <origin
        xyz="0 0 0"
        rpy="0 0 0" />
      <geometry>
        <mesh
          filename="package://try66/meshes/sec16.STL" />
      </geometry>
    </collision>
  </link>
  <joint
    name="joint16"
    type="revolute">
    <origin
      xyz="0.01 0 0"
      rpy="0 0 0" />
    <parent
      link="sec15" />
    <child
      link="sec16" />
    <axis
      xyz="0 0 0" />
    <limit
      lower="-1.571"
      upper="1.571"
      effort="100"
      velocity="0" />
  </joint>
  <link
    name="sec17">
    <inertial>
      <origin
        xyz="0.0025 0.005 1.73472347597681E-18"
        rpy="0 0 0" />
      <mass
        value="0.0015707963267949" />
      <inertia
        ixx="7.85398163397449E-08"
        ixy="5.3809861030073E-41"
        ixz="7.17464813734306E-41"
        iyy="4.25424005173618E-08"
        iyz="4.65289094561077E-25"
        izz="4.25424005173619E-08" />
    </inertial>
    <visual>
      <origin
        xyz="0 0 0"
        rpy="0 0 0" />
      <geometry>
        <mesh
          filename="package://try66/meshes/sec17.STL" />
      </geometry>
      <material
        name="">
        <color
          rgba="0.792156862745098 0.819607843137255 0.933333333333333 1" />
      </material>
    </visual>
    <collision>
      <origin
        xyz="0 0 0"
        rpy="0 0 0" />
      <geometry>
        <mesh
          filename="package://try66/meshes/sec17.STL" />
      </geometry>
    </collision>
  </link>
  <joint
    name="joint17"
    type="revolute">
    <origin
      xyz="0.01 0 0"
      rpy="0 0 0" />
    <parent
      link="sec16" />
    <child
      link="sec17" />
    <axis
      xyz="0 0 0" />
    <limit
      lower="-1.571"
      upper="1.571"
      effort="100"
      velocity="0" />
  </joint>
  <link
    name="sec18">
    <inertial>
      <origin
        xyz="0.0025 0.005 1.73472347597681E-18"
        rpy="0 0 0" />
      <mass
        value="0.0015707963267949" />
      <inertia
        ixx="7.85398163397449E-08"
        ixy="4.48415508583941E-41"
        ixz="8.96831017167883E-41"
        iyy="4.25424005173618E-08"
        iyz="4.65289094561077E-25"
        izz="4.25424005173619E-08" />
    </inertial>
    <visual>
      <origin
        xyz="0 0 0"
        rpy="0 0 0" />
      <geometry>
        <mesh
          filename="package://try66/meshes/sec18.STL" />
      </geometry>
      <material
        name="">
        <color
          rgba="0.792156862745098 0.819607843137255 0.933333333333333 1" />
      </material>
    </visual>
    <collision>
      <origin
        xyz="0 0 0"
        rpy="0 0 0" />
      <geometry>
        <mesh
          filename="package://try66/meshes/sec18.STL" />
      </geometry>
    </collision>
  </link>
  <joint
    name="joint18"
    type="revolute">
    <origin
      xyz="0.01 0 0"
      rpy="0 0 0" />
    <parent
      link="sec17" />
    <child
      link="sec18" />
    <axis
      xyz="0 0 0" />
    <limit
      lower="-1.571"
      upper="1.571"
      effort="100"
      velocity="0" />
  </joint>
  <link
    name="sec19">
    <inertial>
      <origin
        xyz="0.0025 0.005 1.73472347597681E-18"
        rpy="0 0 0" />
      <mass
        value="0.0015707963267949" />
      <inertia
        ixx="7.85398163397449E-08"
        ixy="5.3809861030073E-41"
        ixz="7.17464813734306E-41"
        iyy="4.25424005173618E-08"
        iyz="4.65289094561077E-25"
        izz="4.25424005173619E-08" />
    </inertial>
    <visual>
      <origin
        xyz="0 0 0"
        rpy="0 0 0" />
      <geometry>
        <mesh
          filename="package://try66/meshes/sec19.STL" />
      </geometry>
      <material
        name="">
        <color
          rgba="0.792156862745098 0.819607843137255 0.933333333333333 1" />
      </material>
    </visual>
    <collision>
      <origin
        xyz="0 0 0"
        rpy="0 0 0" />
      <geometry>
        <mesh
          filename="package://try66/meshes/sec19.STL" />
      </geometry>
    </collision>
  </link>
  <joint
    name="joint19"
    type="revolute">
    <origin
      xyz="0.01 0 0"
      rpy="0 0 0" />
    <parent
      link="sec18" />
    <child
      link="sec19" />
    <axis
      xyz="0 0 0" />
    <limit
      lower="-1.571"
      upper="1.571"
      effort="100"
      velocity="0" />
  </joint>
  <link
    name="sec20">
    <inertial>
      <origin
        xyz="0.00966050944787067 0.005 0"
        rpy="0 0 0" />
      <mass
        value="0.00550494687629905" />
      <inertia
        ixx="2.41628680833485E-07"
        ixy="-3.7278248735628E-23"
        ixz="3.06478706752487E-24"
        iyy="1.90268774172367E-07"
        iyz="2.8288045840653E-12"
        izz="1.90263096098426E-07" />
    </inertial>
    <visual>
      <origin
        xyz="0 0 0"
        rpy="0 0 0" />
      <geometry>
        <mesh
          filename="package://try66/meshes/sec20.STL" />
      </geometry>
      <material
        name="">
        <color
          rgba="0.792156862745098 0.819607843137255 0.933333333333333 1" />
      </material>
    </visual>
    <collision>
      <origin
        xyz="0 0 0"
        rpy="0 0 0" />
      <geometry>
        <mesh
          filename="package://try66/meshes/sec20.STL" />
      </geometry>
    </collision>
  </link>
  <joint
    name="joint20"
    type="revolute">
    <origin
      xyz="0.01 0 0"
      rpy="0 0 0" />
    <parent
      link="sec19" />
    <child
      link="sec20" />
    <axis
      xyz="0 0 0" />
    <limit
      lower="-1.571"
      upper="1.571"
      effort="100"
      velocity="0" />
  </joint>
  <link
    name="sec21">
    <inertial>
      <origin
        xyz="-0.0025 0.005 -1.73472347597681E-18"
        rpy="0 0 0" />
      <mass
        value="0.0015707963267949" />
      <inertia
        ixx="7.85398163397449E-08"
        ixy="-5.51453741702018E-25"
        ixz="5.51453741702018E-25"
        iyy="4.25424005173618E-08"
        iyz="-1.93008809595707E-24"
        izz="4.25424005173618E-08" />
    </inertial>
    <visual>
      <origin
        xyz="0 0 0"
        rpy="0 0 0" />
      <geometry>
        <mesh
          filename="package://try66/meshes/sec21.STL" />
      </geometry>
      <material
        name="">
        <color
          rgba="0.792156862745098 0.819607843137255 0.933333333333333 1" />
      </material>
    </visual>
    <collision>
      <origin
        xyz="0 0 0"
        rpy="0 0 0" />
      <geometry>
        <mesh
          filename="package://try66/meshes/sec21.STL" />
      </geometry>
    </collision>
  </link>
  <joint
    name="joint21"
    type="fixed">
    <origin
      xyz="-0.011 -0.005 0"
      rpy="0 0 0" />
    <parent
      link="base_link" />
    <child
      link="sec21" />
    <axis
      xyz="0 0 0" />
    <limit
      lower="-1.571"
      upper="1.571"
      effort="100"
      velocity="0" />
  </joint>
  <link
    name="sec22">
    <inertial>
      <origin
        xyz="-0.0025 0.005 -1.73472347597681E-18"
        rpy="0 0 0" />
      <mass
        value="0.0015707963267949" />
      <inertia
        ixx="7.85398163397449E-08"
        ixy="-5.51453741702019E-25"
        ixz="5.51453741702019E-25"
        iyy="4.25424005173618E-08"
        iyz="-1.93008809595707E-24"
        izz="4.25424005173618E-08" />
    </inertial>
    <visual>
      <origin
        xyz="0 0 0"
        rpy="0 0 0" />
      <geometry>
        <mesh
          filename="package://try66/meshes/sec22.STL" />
      </geometry>
      <material
        name="">
        <color
          rgba="0.792156862745098 0.819607843137255 0.933333333333333 1" />
      </material>
    </visual>
    <collision>
      <origin
        xyz="0 0 0"
        rpy="0 0 0" />
      <geometry>
        <mesh
          filename="package://try66/meshes/sec22.STL" />
      </geometry>
    </collision>
  </link>
  <joint
    name="joint22"
    type="revolute">
    <origin
      xyz="-0.01 0 0"
      rpy="0 0 0" />
    <parent
      link="sec21" />
    <child
      link="sec22" />
    <axis
      xyz="0 0 0" />
    <limit
      lower="-1.571"
      upper="1.571"
      effort="100"
      velocity="0" />
  </joint>
  <link
    name="sec23">
    <inertial>
      <origin
        xyz="-0.0025 0.005 -1.73472347597681E-18"
        rpy="0 0 0" />
      <mass
        value="0.0015707963267949" />
      <inertia
        ixx="7.85398163397448E-08"
        ixy="-5.51453741702019E-25"
        ixz="5.51453741702019E-25"
        iyy="4.25424005173618E-08"
        iyz="-1.93008809595707E-24"
        izz="4.25424005173618E-08" />
    </inertial>
    <visual>
      <origin
        xyz="0 0 0"
        rpy="0 0 0" />
      <geometry>
        <mesh
          filename="package://try66/meshes/sec23.STL" />
      </geometry>
      <material
        name="">
        <color
          rgba="0.792156862745098 0.819607843137255 0.933333333333333 1" />
      </material>
    </visual>
    <collision>
      <origin
        xyz="0 0 0"
        rpy="0 0 0" />
      <geometry>
        <mesh
          filename="package://try66/meshes/sec23.STL" />
      </geometry>
    </collision>
  </link>
  <joint
    name="joint23"
    type="revolute">
    <origin
      xyz="-0.01 0 0"
      rpy="0 0 0" />
    <parent
      link="sec22" />
    <child
      link="sec23" />
    <axis
      xyz="0 0 0" />
    <limit
      lower="-1.571"
      upper="1.571"
      effort="100"
      velocity="0" />
  </joint>
  <link
    name="sec24">
    <inertial>
      <origin
        xyz="-0.0025 0.005 -1.73472347597681E-18"
        rpy="0 0 0" />
      <mass
        value="0.0015707963267949" />
      <inertia
        ixx="7.85398163397448E-08"
        ixy="-5.51453741702019E-25"
        ixz="5.51453741702019E-25"
        iyy="4.25424005173618E-08"
        iyz="-1.93008809595707E-24"
        izz="4.25424005173618E-08" />
    </inertial>
    <visual>
      <origin
        xyz="0 0 0"
        rpy="0 0 0" />
      <geometry>
        <mesh
          filename="package://try66/meshes/sec24.STL" />
      </geometry>
      <material
        name="">
        <color
          rgba="0.792156862745098 0.819607843137255 0.933333333333333 1" />
      </material>
    </visual>
    <collision>
      <origin
        xyz="0 0 0"
        rpy="0 0 0" />
      <geometry>
        <mesh
          filename="package://try66/meshes/sec24.STL" />
      </geometry>
    </collision>
  </link>
  <joint
    name="joint24"
    type="revolute">
    <origin
      xyz="-0.01 0 0"
      rpy="0 0 0" />
    <parent
      link="sec23" />
    <child
      link="sec24" />
    <axis
      xyz="0 0 0" />
    <limit
      lower="-1.571"
      upper="1.571"
      effort="100"
      velocity="0" />
  </joint>
  <link
    name="sec25">
    <inertial>
      <origin
        xyz="-0.0025 0.005 -1.73472347597681E-18"
        rpy="0 0 0" />
      <mass
        value="0.0015707963267949" />
      <inertia
        ixx="7.85398163397448E-08"
        ixy="-5.51453741702019E-25"
        ixz="5.51453741702019E-25"
        iyy="4.25424005173618E-08"
        iyz="-1.93008809595707E-24"
        izz="4.25424005173618E-08" />
    </inertial>
    <visual>
      <origin
        xyz="0 0 0"
        rpy="0 0 0" />
      <geometry>
        <mesh
          filename="package://try66/meshes/sec25.STL" />
      </geometry>
      <material
        name="">
        <color
          rgba="0.792156862745098 0.819607843137255 0.933333333333333 1" />
      </material>
    </visual>
    <collision>
      <origin
        xyz="0 0 0"
        rpy="0 0 0" />
      <geometry>
        <mesh
          filename="package://try66/meshes/sec25.STL" />
      </geometry>
    </collision>
  </link>
  <joint
    name="joint25"
    type="revolute">
    <origin
      xyz="-0.01 0 0"
      rpy="0 0 0" />
    <parent
      link="sec24" />
    <child
      link="sec25" />
    <axis
      xyz="0 0 0" />
    <limit
      lower="-1.571"
      upper="1.571"
      effort="100"
      velocity="0" />
  </joint>
  <link
    name="sec26">
    <inertial>
      <origin
        xyz="-0.0025 0.005 -1.73472347597681E-18"
        rpy="0 0 0" />
      <mass
        value="0.0015707963267949" />
      <inertia
        ixx="7.85398163397449E-08"
        ixy="-2.7572687085101E-25"
        ixz="1.65436122510606E-24"
        iyy="4.25424005173618E-08"
        iyz="-6.3761838884296E-25"
        izz="4.25424005173619E-08" />
    </inertial>
    <visual>
      <origin
        xyz="0 0 0"
        rpy="0 0 0" />
      <geometry>
        <mesh
          filename="package://try66/meshes/sec26.STL" />
      </geometry>
      <material
        name="">
        <color
          rgba="0.792156862745098 0.819607843137255 0.933333333333333 1" />
      </material>
    </visual>
    <collision>
      <origin
        xyz="0 0 0"
        rpy="0 0 0" />
      <geometry>
        <mesh
          filename="package://try66/meshes/sec26.STL" />
      </geometry>
    </collision>
  </link>
  <joint
    name="joint26"
    type="revolute">
    <origin
      xyz="-0.01 0 0"
      rpy="0 0 0" />
    <parent
      link="sec25" />
    <child
      link="sec26" />
    <axis
      xyz="0 0 0" />
    <limit
      lower="-1.571"
      upper="1.571"
      effort="100"
      velocity="0" />
  </joint>
  <link
    name="sec27">
    <inertial>
      <origin
        xyz="-0.0025 0.005 -1.73472347597681E-18"
        rpy="0 0 0" />
      <mass
        value="0.0015707963267949" />
      <inertia
        ixx="7.85398163397449E-08"
        ixy="-2.7572687085101E-25"
        ixz="1.65436122510606E-24"
        iyy="4.25424005173618E-08"
        iyz="-6.3761838884296E-25"
        izz="4.25424005173619E-08" />
    </inertial>
    <visual>
      <origin
        xyz="0 0 0"
        rpy="0 0 0" />
      <geometry>
        <mesh
          filename="package://try66/meshes/sec27.STL" />
      </geometry>
      <material
        name="">
        <color
          rgba="0.792156862745098 0.819607843137255 0.933333333333333 1" />
      </material>
    </visual>
    <collision>
      <origin
        xyz="0 0 0"
        rpy="0 0 0" />
      <geometry>
        <mesh
          filename="package://try66/meshes/sec27.STL" />
      </geometry>
    </collision>
  </link>
  <joint
    name="joint27"
    type="revolute">
    <origin
      xyz="-0.00999999999999999 0 0"
      rpy="0 0 0" />
    <parent
      link="sec26" />
    <child
      link="sec27" />
    <axis
      xyz="0 0 0" />
    <limit
      lower="-1.571"
      upper="1.571"
      effort="100"
      velocity="0" />
  </joint>
  <link
    name="sec28">
    <inertial>
      <origin
        xyz="-0.0025 0.005 -1.73472347597681E-18"
        rpy="0 0 0" />
      <mass
        value="0.0015707963267949" />
      <inertia
        ixx="7.85398163397449E-08"
        ixy="-2.7572687085101E-25"
        ixz="1.65436122510606E-24"
        iyy="4.25424005173618E-08"
        iyz="-6.3761838884296E-25"
        izz="4.25424005173619E-08" />
    </inertial>
    <visual>
      <origin
        xyz="0 0 0"
        rpy="0 0 0" />
      <geometry>
        <mesh
          filename="package://try66/meshes/sec28.STL" />
      </geometry>
      <material
        name="">
        <color
          rgba="0.792156862745098 0.819607843137255 0.933333333333333 1" />
      </material>
    </visual>
    <collision>
      <origin
        xyz="0 0 0"
        rpy="0 0 0" />
      <geometry>
        <mesh
          filename="package://try66/meshes/sec28.STL" />
      </geometry>
    </collision>
  </link>
  <joint
    name="joint28"
    type="revolute">
    <origin
      xyz="-0.01 0 0"
      rpy="0 0 0" />
    <parent
      link="sec27" />
    <child
      link="sec28" />
    <axis
      xyz="0 0 0" />
    <limit
      lower="-1.571"
      upper="1.571"
      effort="100"
      velocity="0" />
  </joint>
  <link
    name="sec29">
    <inertial>
      <origin
        xyz="-0.00250000000000002 0.005 -1.73472347597681E-18"
        rpy="0 0 0" />
      <mass
        value="0.0015707963267949" />
      <inertia
        ixx="7.85398163397449E-08"
        ixy="-2.7572687085101E-25"
        ixz="1.65436122510606E-24"
        iyy="4.25424005173618E-08"
        iyz="-6.3761838884296E-25"
        izz="4.25424005173619E-08" />
    </inertial>
    <visual>
      <origin
        xyz="0 0 0"
        rpy="0 0 0" />
      <geometry>
        <mesh
          filename="package://try66/meshes/sec29.STL" />
      </geometry>
      <material
        name="">
        <color
          rgba="0.792156862745098 0.819607843137255 0.933333333333333 1" />
      </material>
    </visual>
    <collision>
      <origin
        xyz="0 0 0"
        rpy="0 0 0" />
      <geometry>
        <mesh
          filename="package://try66/meshes/sec29.STL" />
      </geometry>
    </collision>
  </link>
  <joint
    name="joint29"
    type="revolute">
    <origin
      xyz="-0.01 0 0"
      rpy="0 0 0" />
    <parent
      link="sec28" />
    <child
      link="sec29" />
    <axis
      xyz="0 0 0" />
    <limit
      lower="-1.571"
      upper="1.571"
      effort="100"
      velocity="0" />
  </joint>
  <link
    name="sec30">
    <inertial>
      <origin
        xyz="-0.00966050944787065 0.005 -1.73472347597681E-18"
        rpy="0 0 0" />
      <mass
        value="0.00550494687629906" />
      <inertia
        ixx="2.41628680833485E-07"
        ixy="1.23927073093501E-23"
        ixz="4.19646515270006E-23"
        iyy="1.90268774172367E-07"
        iyz="2.82880458407398E-12"
        izz="1.90263096098426E-07" />
    </inertial>
    <visual>
      <origin
        xyz="0 0 0"
        rpy="0 0 0" />
      <geometry>
        <mesh
          filename="package://try66/meshes/sec30.STL" />
      </geometry>
      <material
        name="">
        <color
          rgba="0.792156862745098 0.819607843137255 0.933333333333333 1" />
      </material>
    </visual>
    <collision>
      <origin
        xyz="0 0 0"
        rpy="0 0 0" />
      <geometry>
        <mesh
          filename="package://try66/meshes/sec30.STL" />
      </geometry>
    </collision>
  </link>
  <joint
    name="joint30"
    type="revolute">
    <origin
      xyz="-0.01 0 0"
      rpy="0 0 0" />
    <parent
      link="sec29" />
    <child
      link="sec30" />
    <axis
      xyz="0 0 0" />
    <limit
      lower="-1.571"
      upper="1.571"
      effort="100"
      velocity="0" />
  </joint>
</robot>
